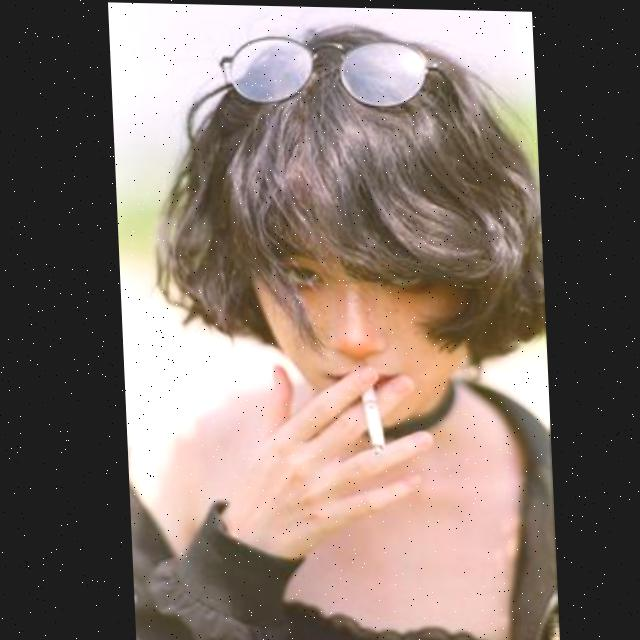cigarette: (361, 383, 382, 452)
